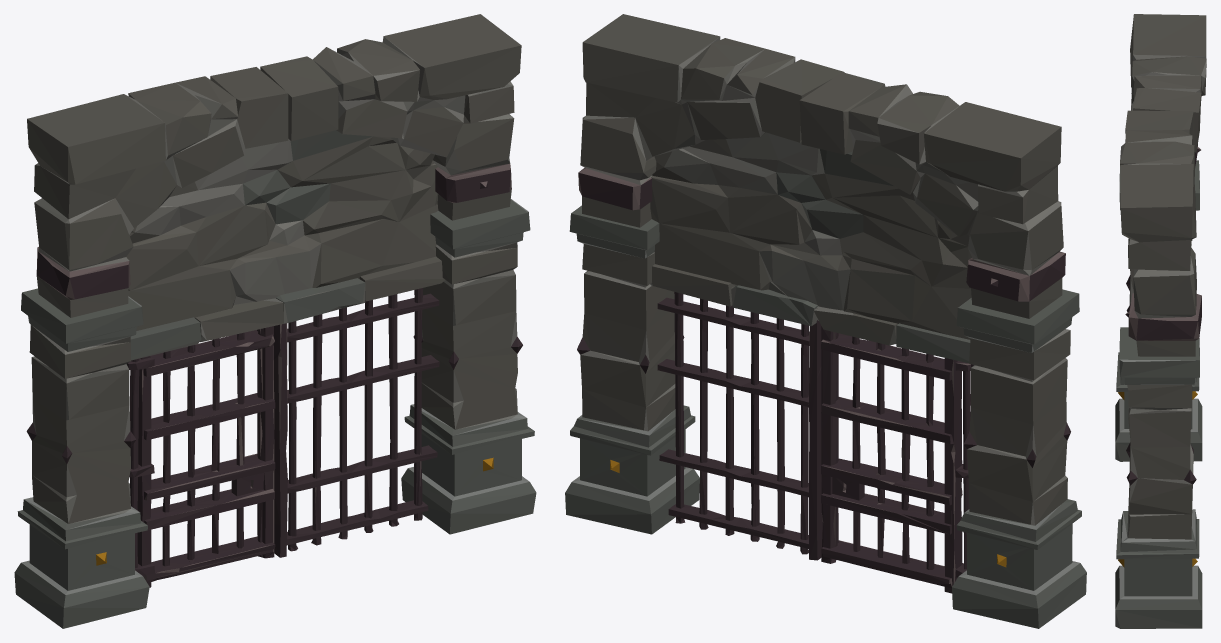
Rendered from MDungeons_Walls_MetalDoor_01.FBX.
The picture shows the model from 3 angles, left to right: view 1: azimuth 30°, elevation 25°; view 2: azimuth 150°, elevation 25°; view 3: azimuth 270°, elevation 25°; orthographic projection. The views are drawn at different scales.
Parts seen in each view (by area): view 1: MDungeons_Walls_MetalFrameBars_01_LOD0, MDungeons_Walls_MetalDoorBars_01_LOD0; view 2: MDungeons_Walls_MetalFrameBars_01_LOD0, MDungeons_Walls_MetalDoorBars_01_LOD0; view 3: MDungeons_Walls_MetalFrameBars_01_LOD0.
Part boxes in pixels (<box>): MDungeons_Walls_MetalFrameBars_01_LOD0: <box>14,14,536,628</box>; MDungeons_Walls_MetalDoorBars_01_LOD0: <box>126,326,275,587</box>; MDungeons_Walls_MetalFrameBars_01_LOD0: <box>565,14,1086,628</box>; MDungeons_Walls_MetalDoorBars_01_LOD0: <box>821,326,970,593</box>; MDungeons_Walls_MetalFrameBars_01_LOD0: <box>1115,14,1206,628</box>.
Size of what is drawn, in the model's own units: 6.26 by 6.05 by 1.19.
